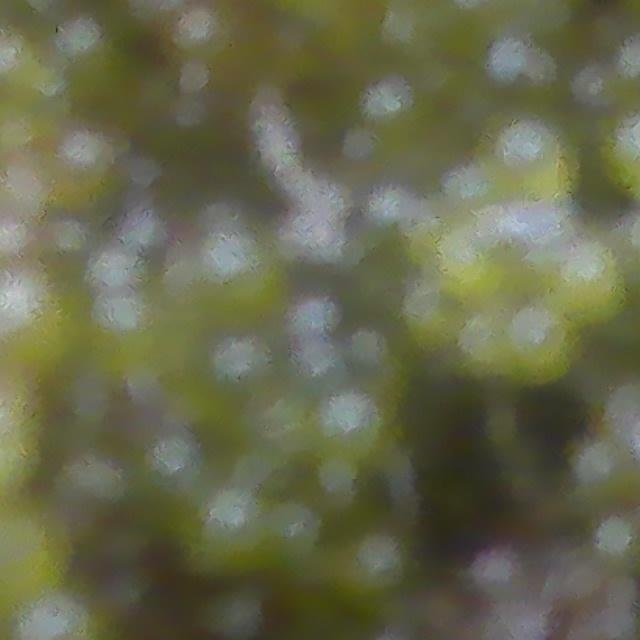SeaGrape: (307, 385, 397, 473), (549, 238, 632, 327), (193, 485, 273, 573), (335, 528, 414, 603), (196, 583, 268, 640)
